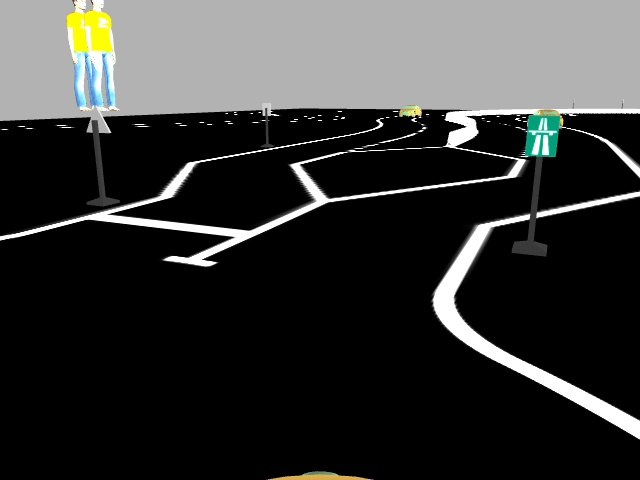HighwayEntrance: (523, 112, 560, 158)
